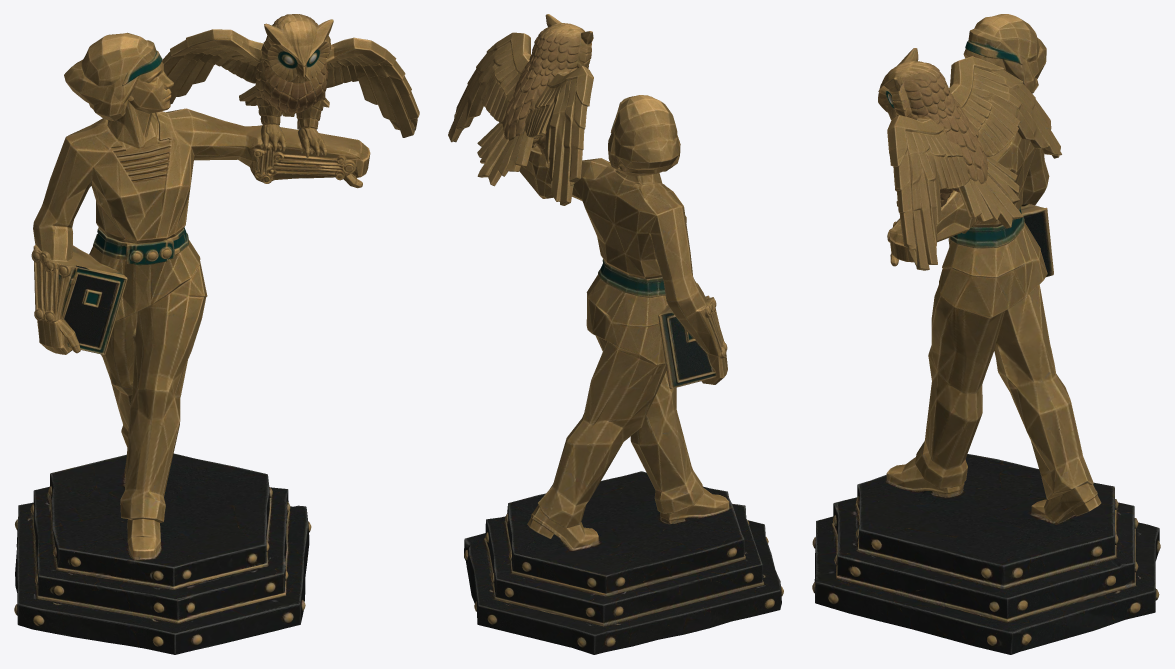
File: knowledge.glb
3 renders of one model, left to right at view 1: azimuth 30°, elevation 25°; view 2: azimuth 150°, elevation 25°; view 3: azimuth 270°, elevation 25°, orthographic. The views are drawn at different scales.
Size of the model in its own units: 1.33 by 1.88 by 1.06.
1 material, 1 textured.
